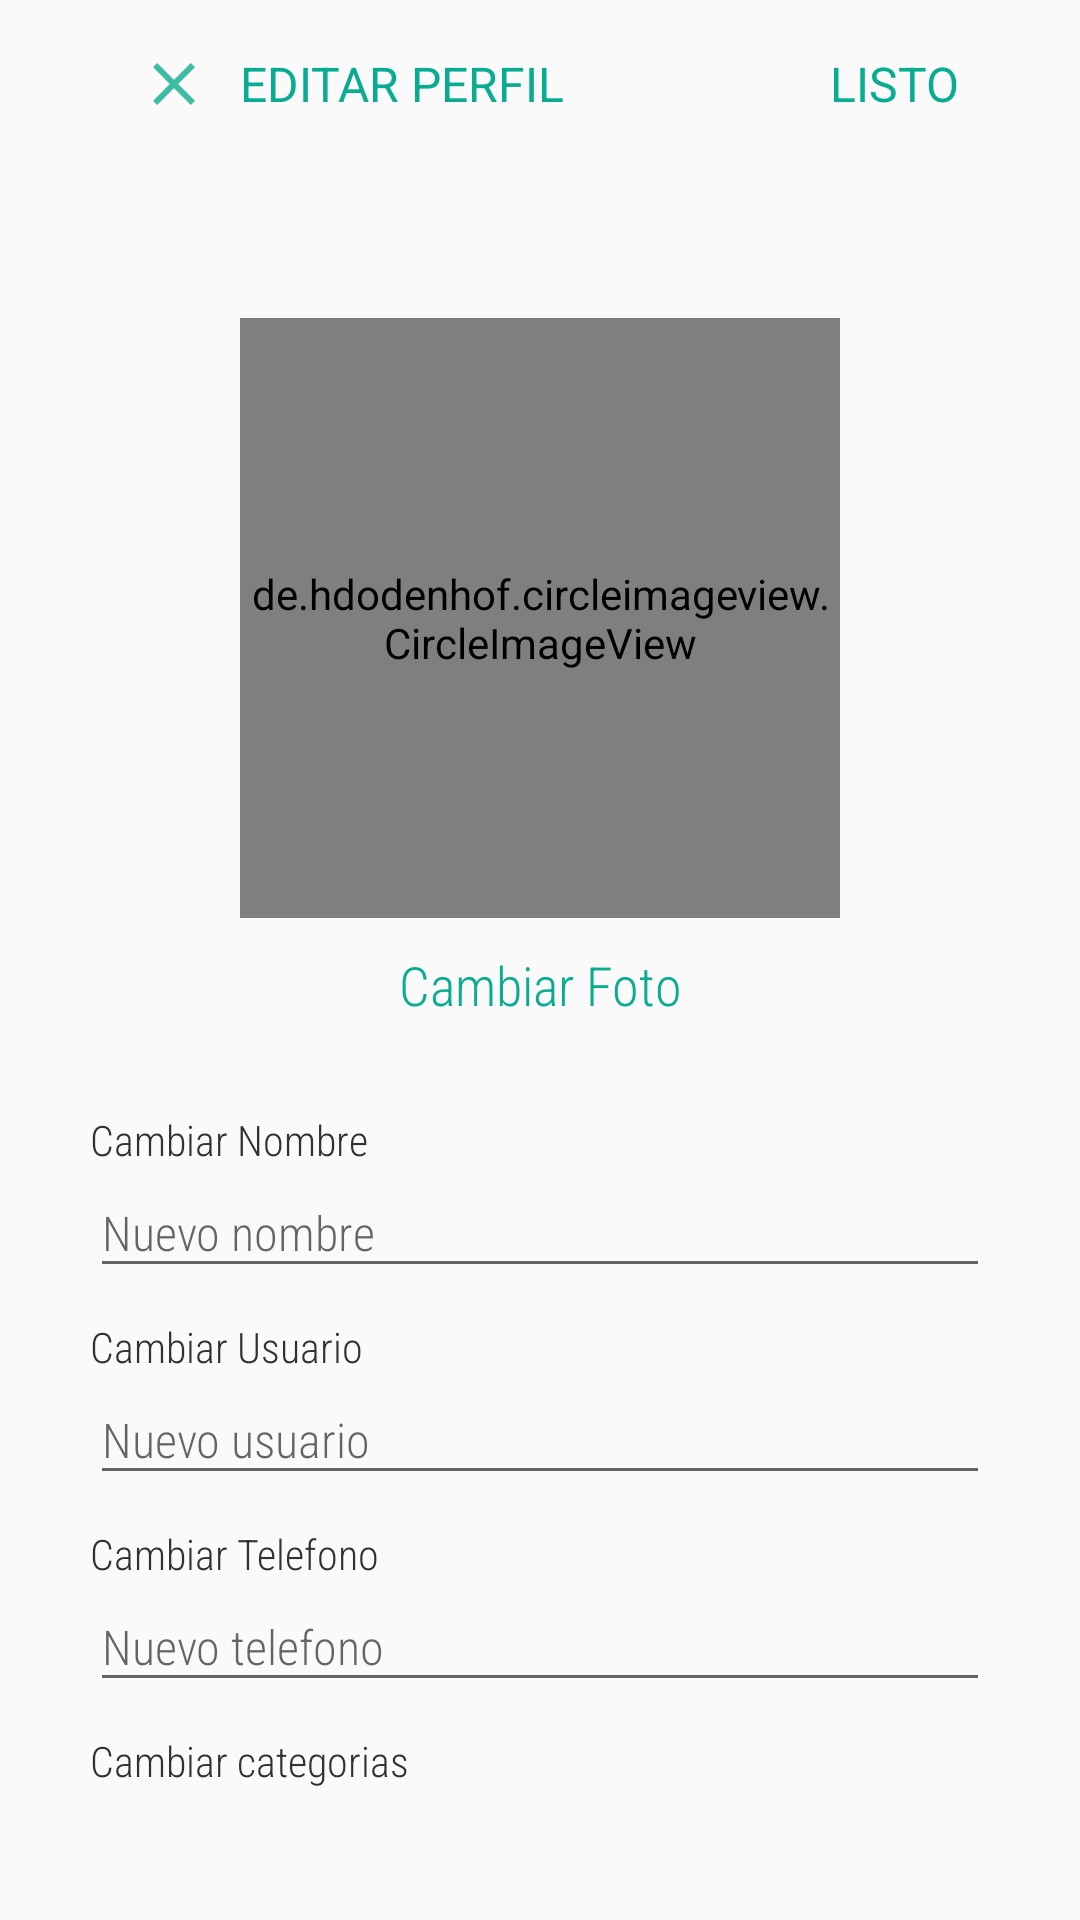

Screen size 1080px×1920px. Icon name, then its box in pixels as [x1,y1,x2,y2]:
close: [153,63,195,105]
